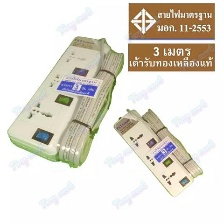three_eye_plug: (5, 35, 112, 164), (113, 104, 195, 199)
